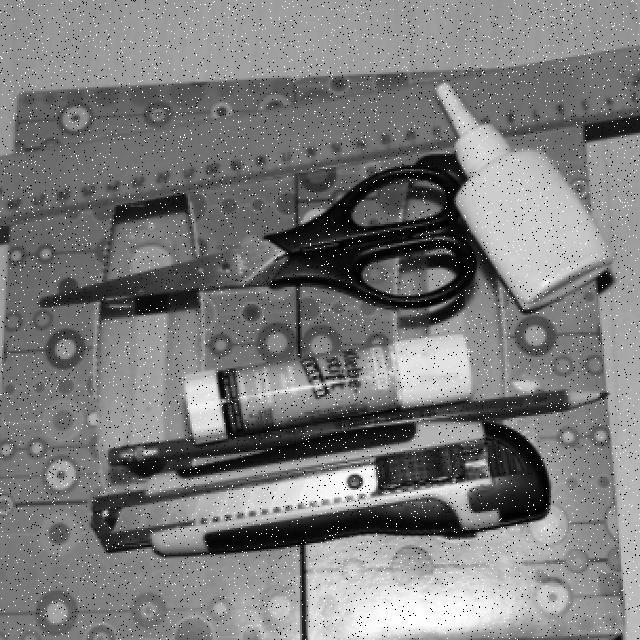scissors: (42, 159, 474, 312)
